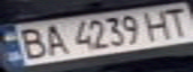2: (87, 16, 109, 51)
3: (106, 15, 127, 48)
4: (69, 18, 90, 52)
9: (118, 11, 145, 45)
A: (36, 21, 69, 56)
B: (12, 25, 51, 60)
H: (139, 7, 178, 40)
T: (157, 3, 193, 37)
